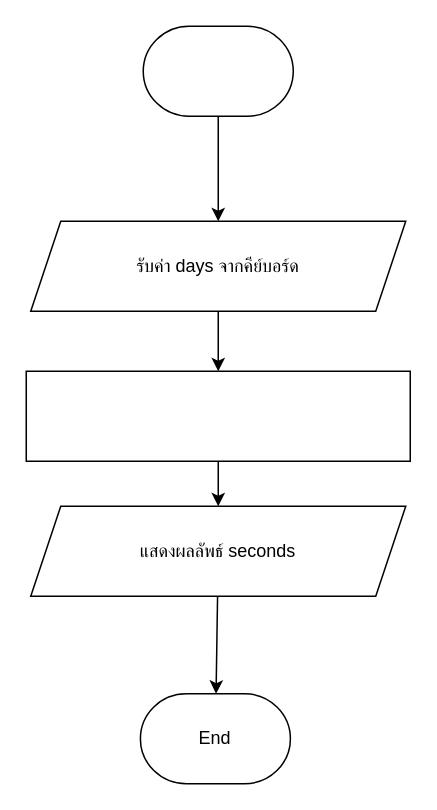
Some shapes in this 437 by 810 pixel diagram are drawn without their labels. The shapes that lost their labels are listed below. From the top down, each one's box as (x1, y1, x2, y2) in pixels, then its label:
(142, 25, 293, 116): Start
(25, 370, 410, 461): seconds = days * 86400
